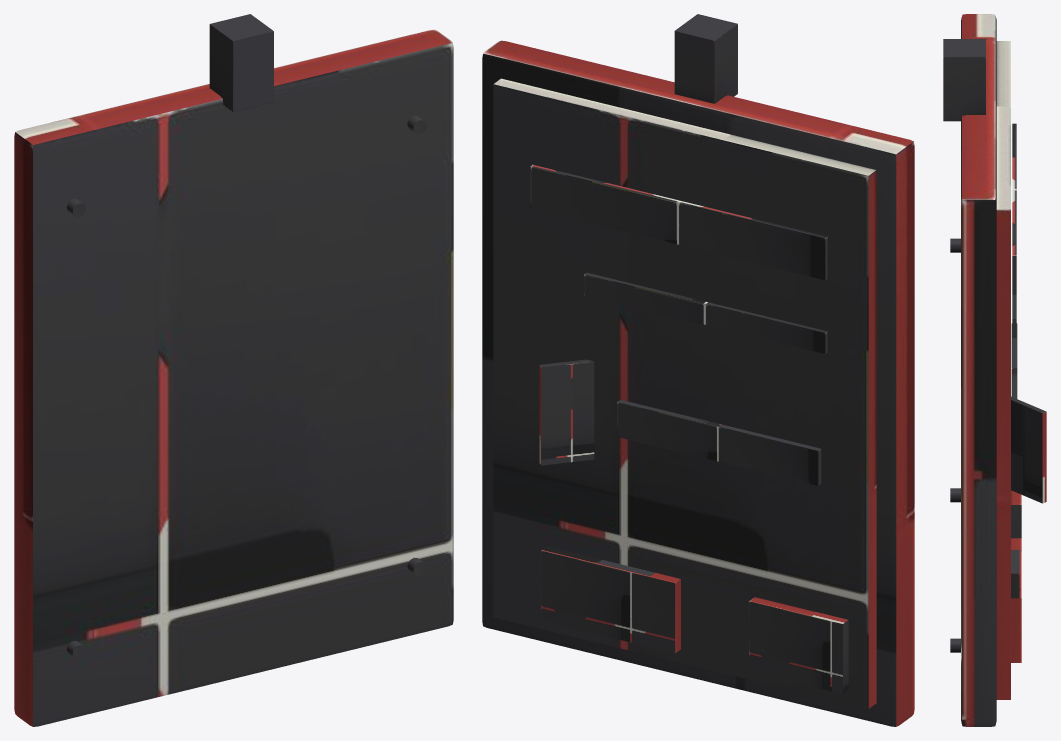
The model's file is DD_sign.glb.
3 views of the same model, side by side, from view 1: azimuth 30°, elevation 25°; view 2: azimuth 150°, elevation 25°; view 3: azimuth 270°, elevation 25° (orthographic). The views are drawn at different scales.
Parts seen in each view (by area): view 1: DD_sign; view 2: DD_sign; view 3: DD_sign.
Boxes of the visible parts, x1=… form: DD_sign: x1=14, y1=14, x2=453, y2=726; DD_sign: x1=482, y1=14, x2=914, y2=726; DD_sign: x1=943, y1=14, x2=1046, y2=726.
Bounding box in the file's own units: 0.62 × 0.91 × 0.1453.
1 material, 1 textured.
